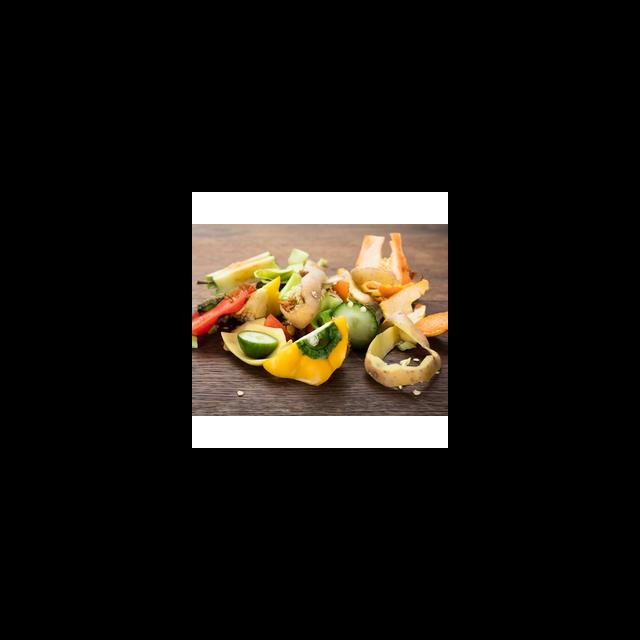food_waste: (360, 327, 446, 386), (337, 231, 403, 291), (279, 328, 352, 382), (208, 260, 299, 302), (264, 262, 321, 322), (192, 293, 258, 339), (390, 291, 448, 341), (227, 313, 283, 364), (328, 292, 385, 341)
